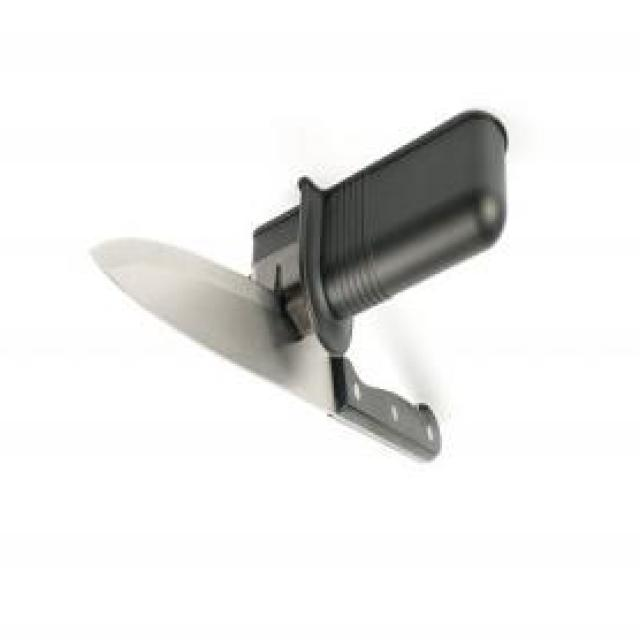knife: (92, 237, 442, 470)
